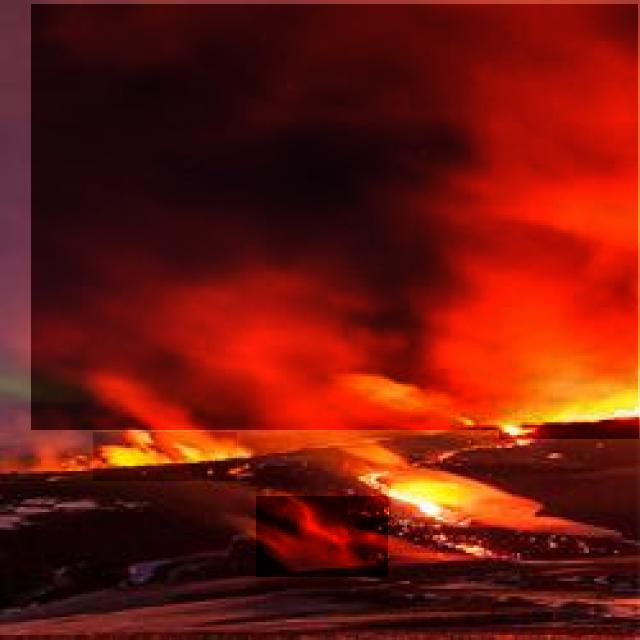Fire: (93, 432, 237, 481), (499, 402, 639, 439), (391, 483, 458, 526)
Smoke: (31, 4, 638, 430), (256, 496, 388, 577)
